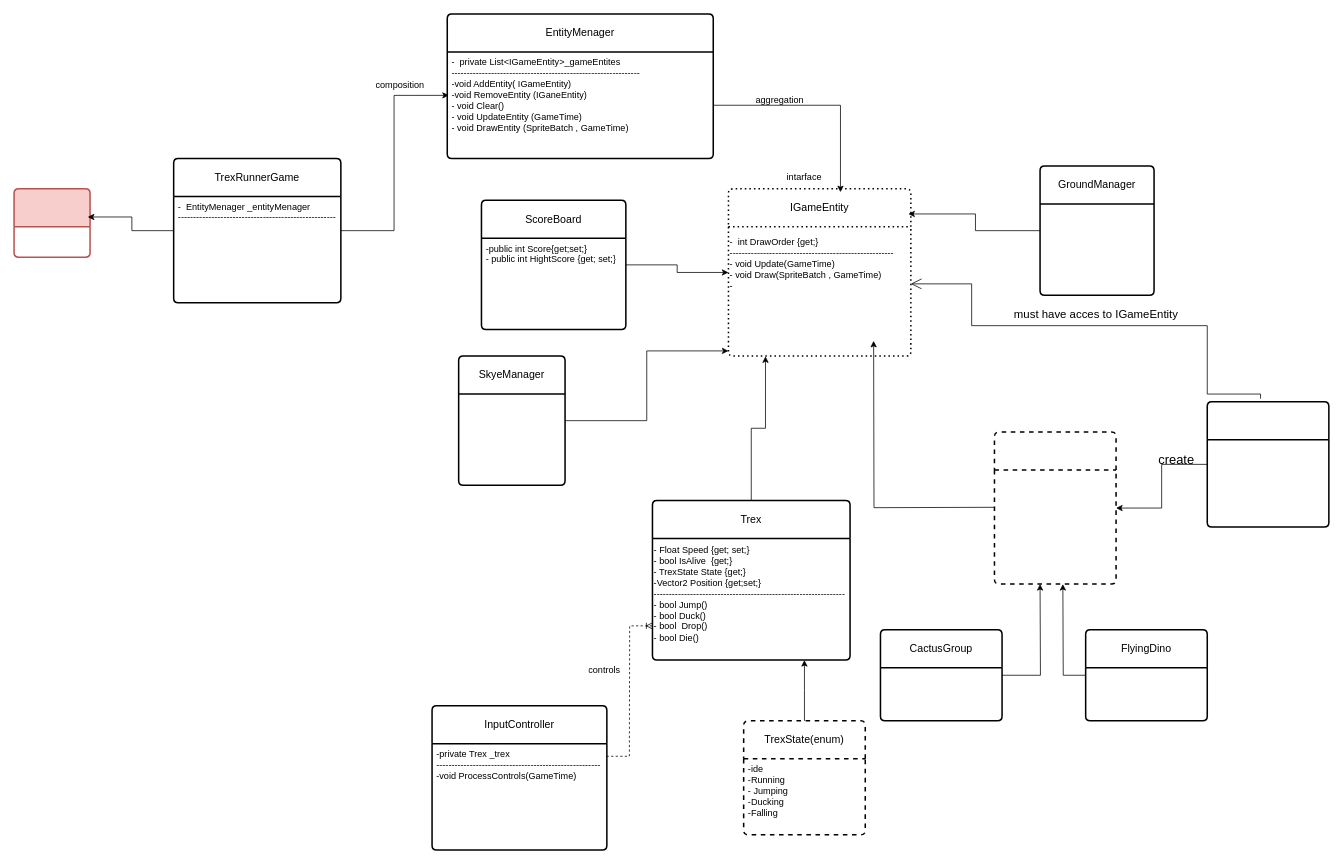
This 1342x863 diagram has some shape labels left out. Here are the shapes that lost their labels. From the top down, the centre of each, then its label:
the point at 51,223: Game
the point at 1267,464: ObstacleMenager
the point at 1054,507: Obstacle(abstract)
